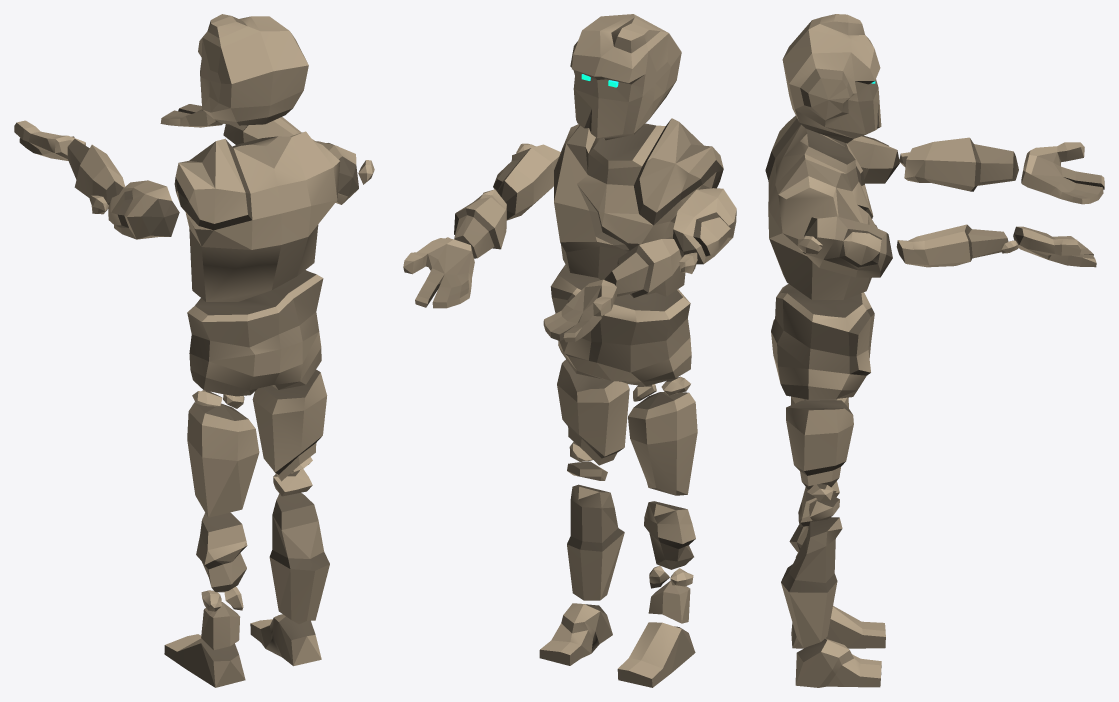
File: GolemChoice3.fbx
The picture shows the model from 3 angles, left to right: view 1: azimuth 30°, elevation 25°; view 2: azimuth 150°, elevation 25°; view 3: azimuth 270°, elevation 25°; orthographic projection.
Visible parts, largest first — view 1: Chest, Waist, Head, UpperLeg.R, UpperLeg.L, LowerLeg.L, LowerLeg.R, UpperArm.R, Foot.R, LowerArm.R, Foot.L, Hand.R (+3 smaller); view 2: Chest, Head, Waist, UpperLeg.R, UpperLeg.L, LowerLeg.L, LowerLeg.R, Hand.L, UpperArm.R, Foot.R, LowerArm.R, UpperArm.L (+3 smaller); view 3: Chest, Head, Waist, UpperLeg.L, LowerLeg.L, LowerArm.R, UpperArm.L, LowerArm.L, Hand.R, Foot.L, Hand.L, Foot.R (+2 smaller).
Part boxes in pixels (bbox=[...]): Chest: bbox=[174, 131, 340, 301]; Waist: bbox=[187, 270, 323, 396]; Head: bbox=[198, 14, 308, 125]; UpperLeg.R: bbox=[187, 390, 259, 517]; UpperLeg.L: bbox=[252, 369, 327, 496]; LowerLeg.L: bbox=[269, 492, 329, 624]; LowerLeg.R: bbox=[196, 512, 247, 650]; UpperArm.R: bbox=[108, 180, 179, 239]; Foot.R: bbox=[164, 634, 245, 687]; LowerArm.R: bbox=[67, 139, 124, 214]; Foot.L: bbox=[250, 614, 321, 666]; Hand.R: bbox=[14, 120, 85, 160]; Chest: bbox=[554, 118, 723, 296]; Head: bbox=[570, 14, 681, 140]; Waist: bbox=[550, 264, 691, 386]; UpperLeg.R: bbox=[628, 376, 697, 495]; UpperLeg.L: bbox=[557, 359, 629, 480]; LowerLeg.L: bbox=[567, 484, 624, 600]; LowerLeg.R: bbox=[644, 501, 695, 623]; Hand.L: bbox=[403, 238, 474, 308]; UpperArm.R: bbox=[673, 188, 736, 264]; Foot.R: bbox=[617, 622, 695, 687]; LowerArm.R: bbox=[605, 239, 697, 297]; UpperArm.L: bbox=[493, 143, 560, 220]; Chest: bbox=[765, 115, 877, 299]; Head: bbox=[782, 14, 881, 143]; Waist: bbox=[771, 284, 874, 399]; UpperLeg.L: bbox=[786, 400, 853, 521]; LowerLeg.L: bbox=[781, 517, 842, 647]; LowerArm.R: bbox=[899, 137, 1018, 191]; UpperArm.L: bbox=[797, 216, 892, 277]; LowerArm.L: bbox=[896, 224, 1018, 267]; Hand.R: bbox=[1021, 142, 1104, 204]; Foot.L: bbox=[795, 638, 881, 687]; Hand.L: bbox=[1013, 226, 1096, 267]; Foot.R: bbox=[791, 606, 885, 648].
Bounding box in the file's own units: 241 × 633 × 307.
